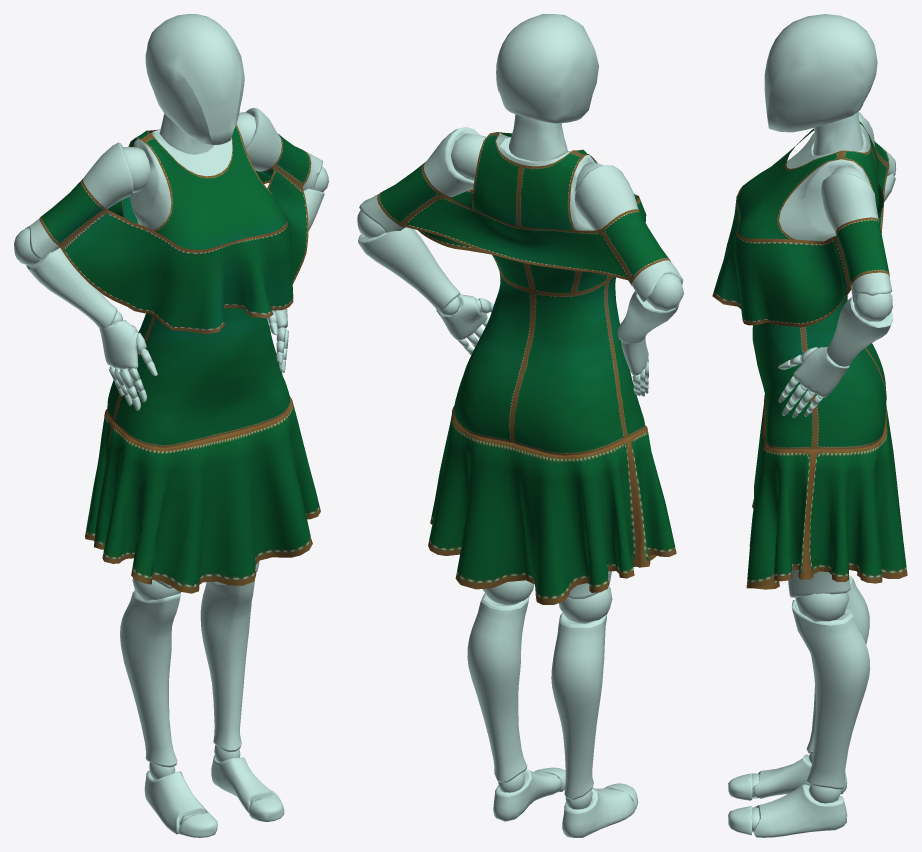
File: inter_elem2.glb
The picture shows the model from 3 angles, left to right: view 1: azimuth 30°, elevation 25°; view 2: azimuth 150°, elevation 25°; view 3: azimuth 270°, elevation 25°; orthographic projection. The views are drawn at different scales.
Visible parts, largest first — view 1: D2_MD1_0, Dummy_02 - Default.001_0; view 2: D2_MD1_0, Dummy_02 - Default.001_0; view 3: D2_MD1_0, Dummy_02 - Default.001_0.
Boxes of the visible parts, bbox=[...] form: D2_MD1_0: bbox=[39, 124, 320, 593]; Dummy_02 - Default.001_0: bbox=[14, 14, 328, 837]; D2_MD1_0: bbox=[377, 132, 676, 604]; Dummy_02 - Default.001_0: bbox=[357, 14, 683, 837]; D2_MD1_0: bbox=[712, 121, 907, 589]; Dummy_02 - Default.001_0: bbox=[728, 14, 896, 837].
Bounding box in the file's own units: 0.7263 × 1.75 × 0.3902.
2 materials, 1 textured.
